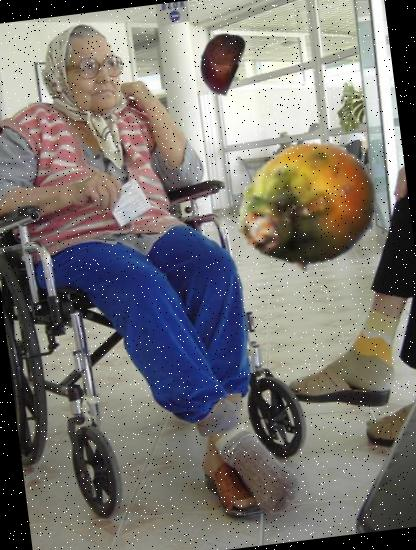Cactus: (234, 132, 383, 281)
Chestnut: (184, 27, 254, 96)
